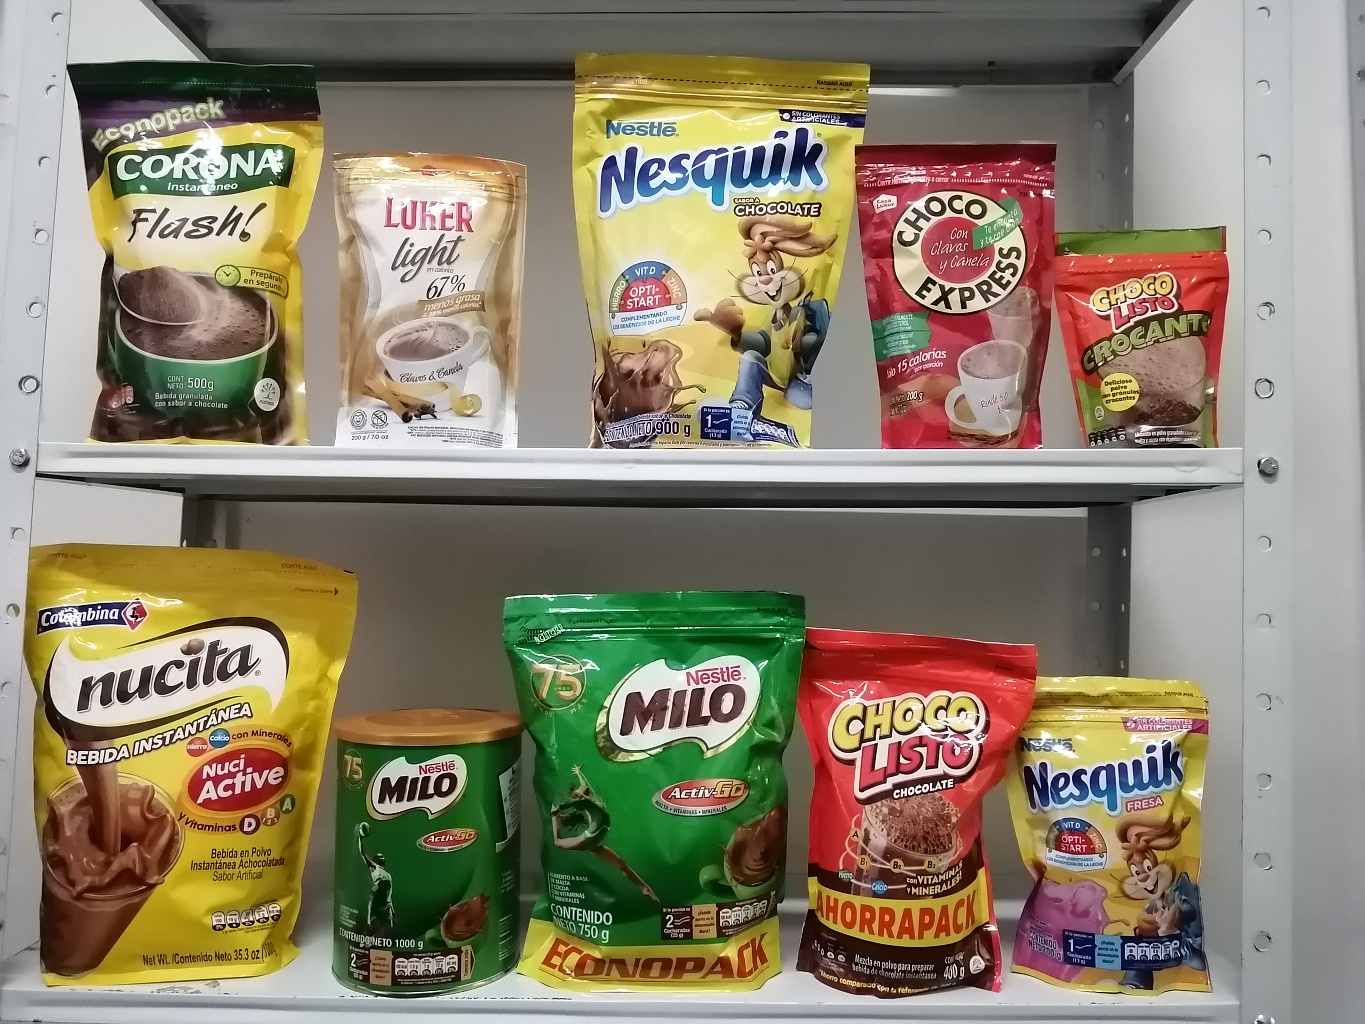COL0170102DYP10000: (1060, 222, 1233, 447)
COL0170103DYP40000: (793, 621, 1039, 993)
COL0170305DYP20000: (1016, 664, 1236, 1005)
